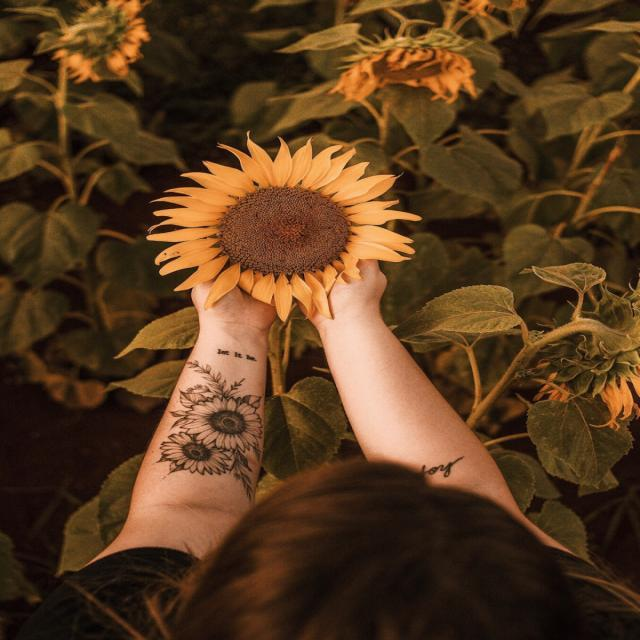sunflower: (144, 130, 422, 322), (328, 45, 479, 103), (49, 0, 151, 84), (532, 366, 638, 430)
